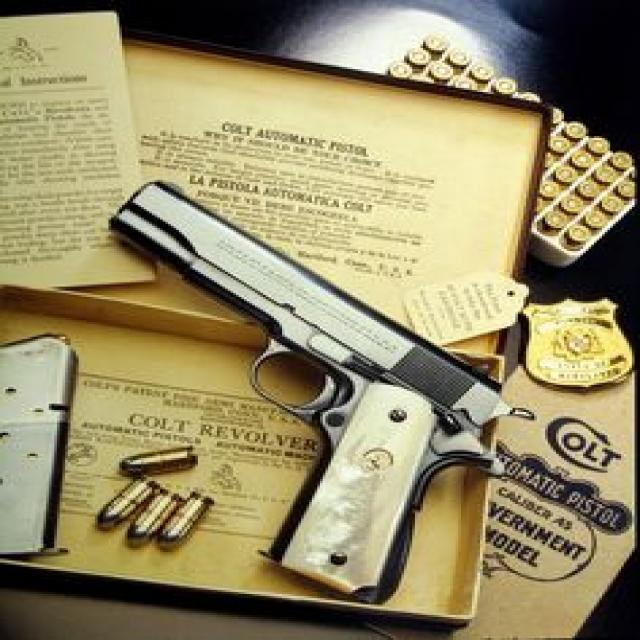semi automatic: (97, 152, 513, 616)
